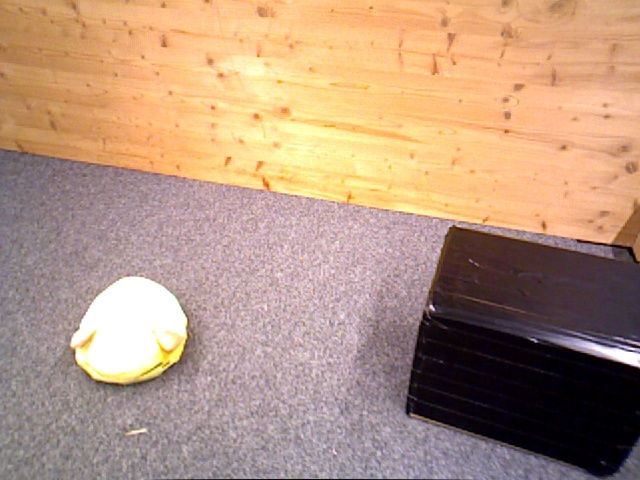grasp: (71, 276, 190, 386)
push: (403, 227, 640, 477)
